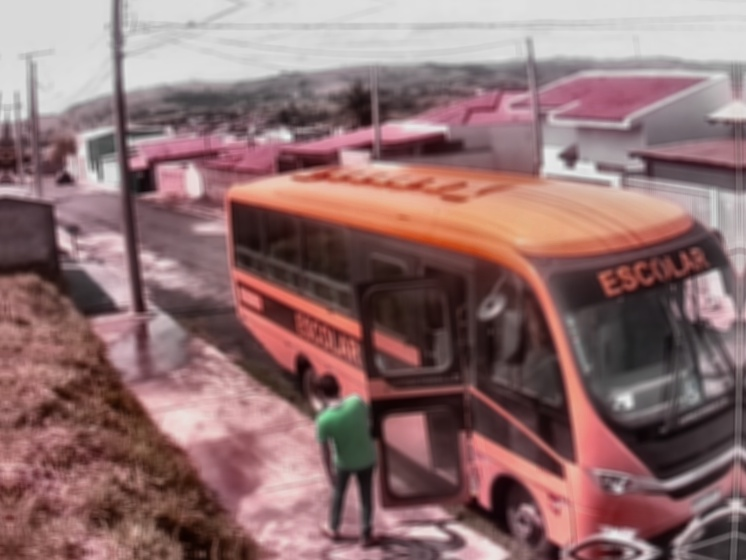person: (314, 371, 382, 548)
